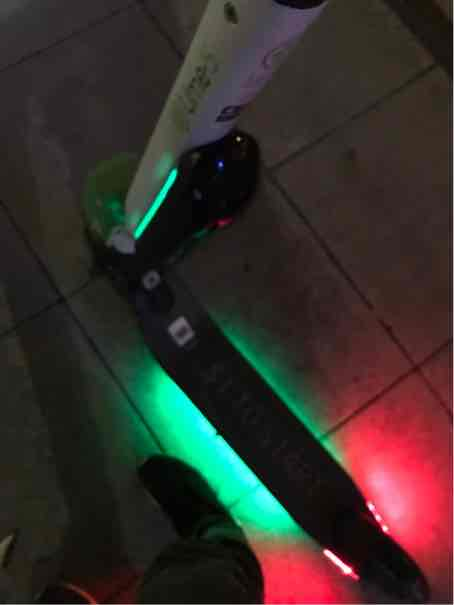scooter: (29, 9, 438, 605)
